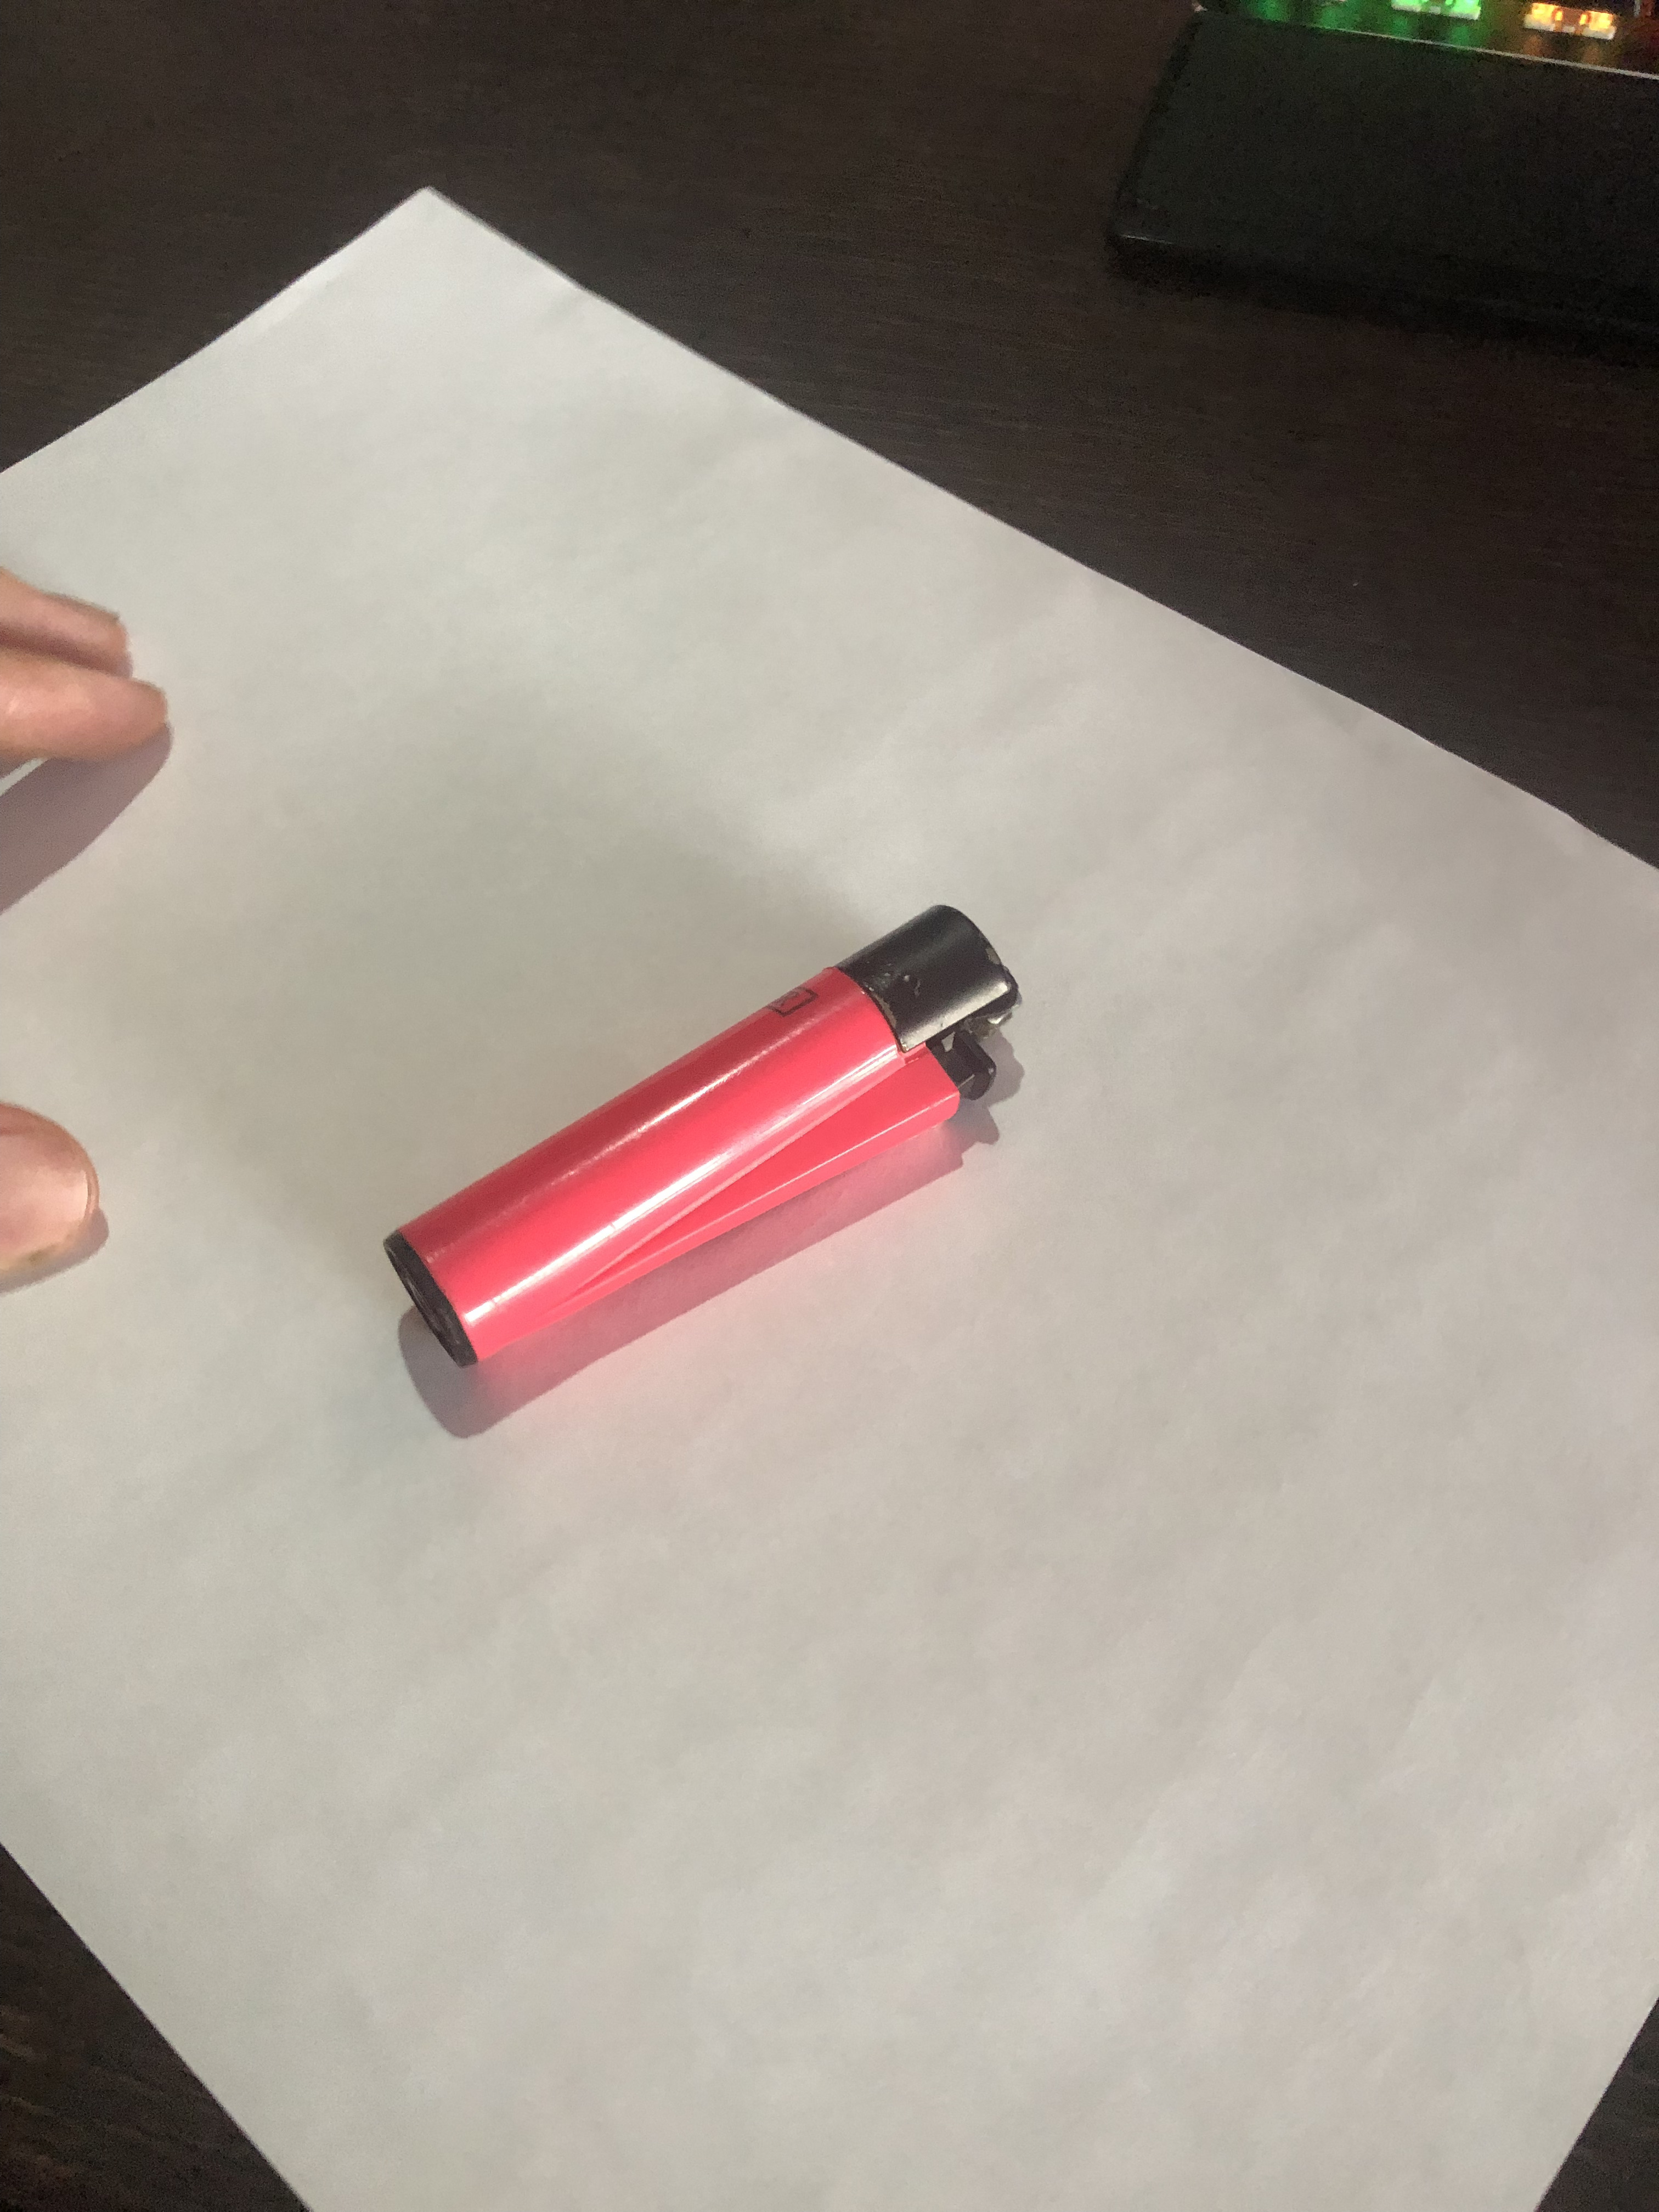Mechero: (385, 885, 1030, 1372)
